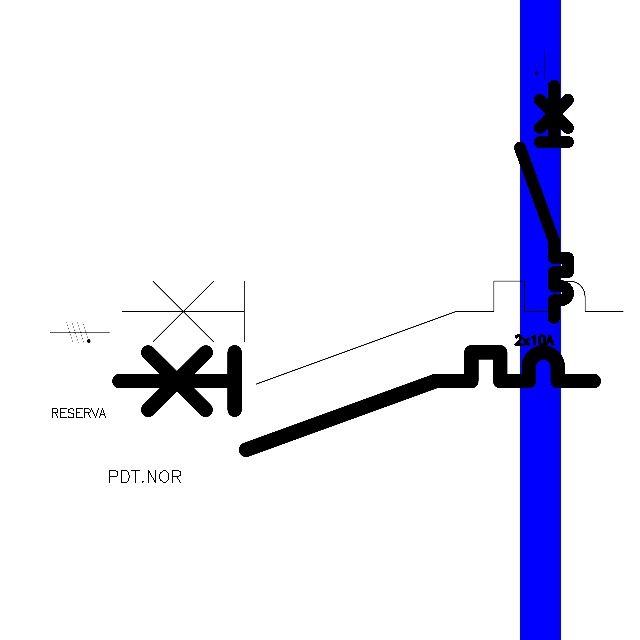interruptor_termomagnetico: (109, 268, 635, 397), (107, 340, 606, 462), (514, 79, 574, 323)
